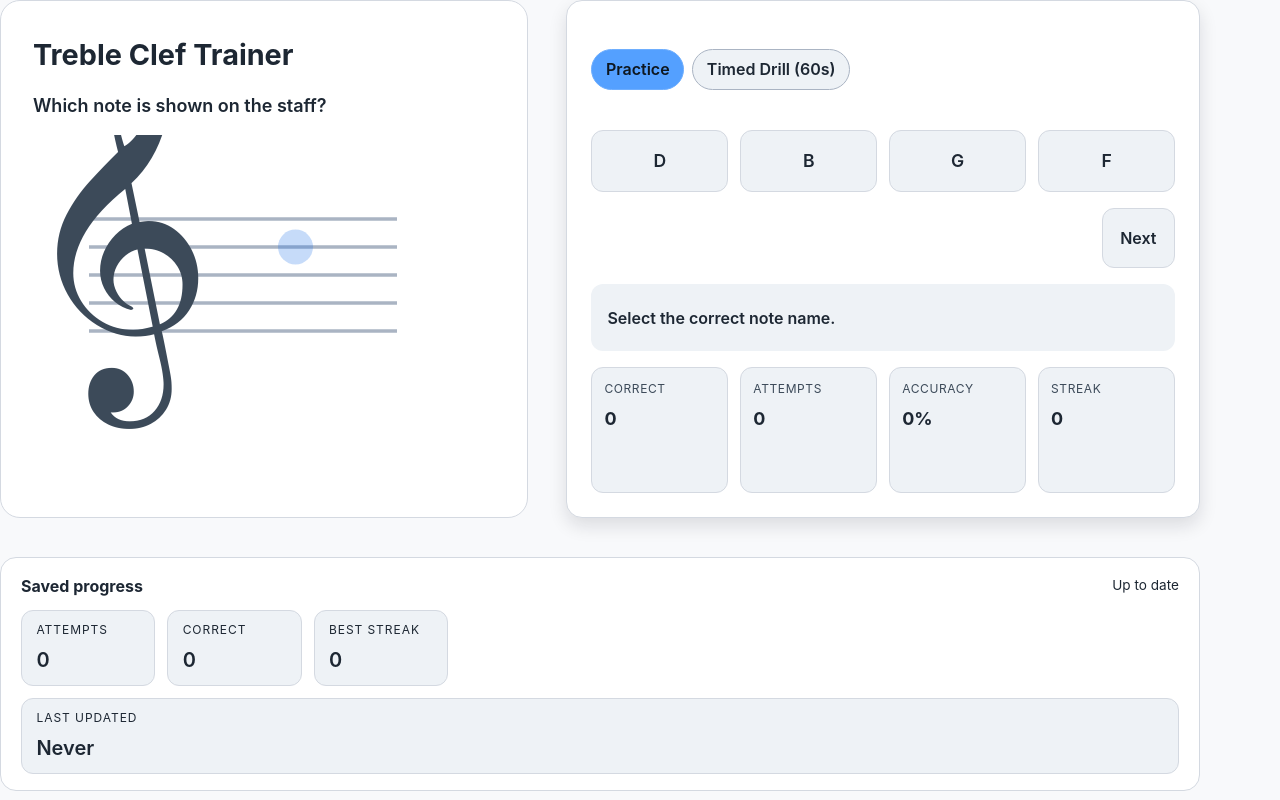
TrebleTrainer › prompts retry after an incorrect choice
The width and height of the screenshot is (1280, 800).
Click the button "B" at (809, 161), box [740,130,877,192]
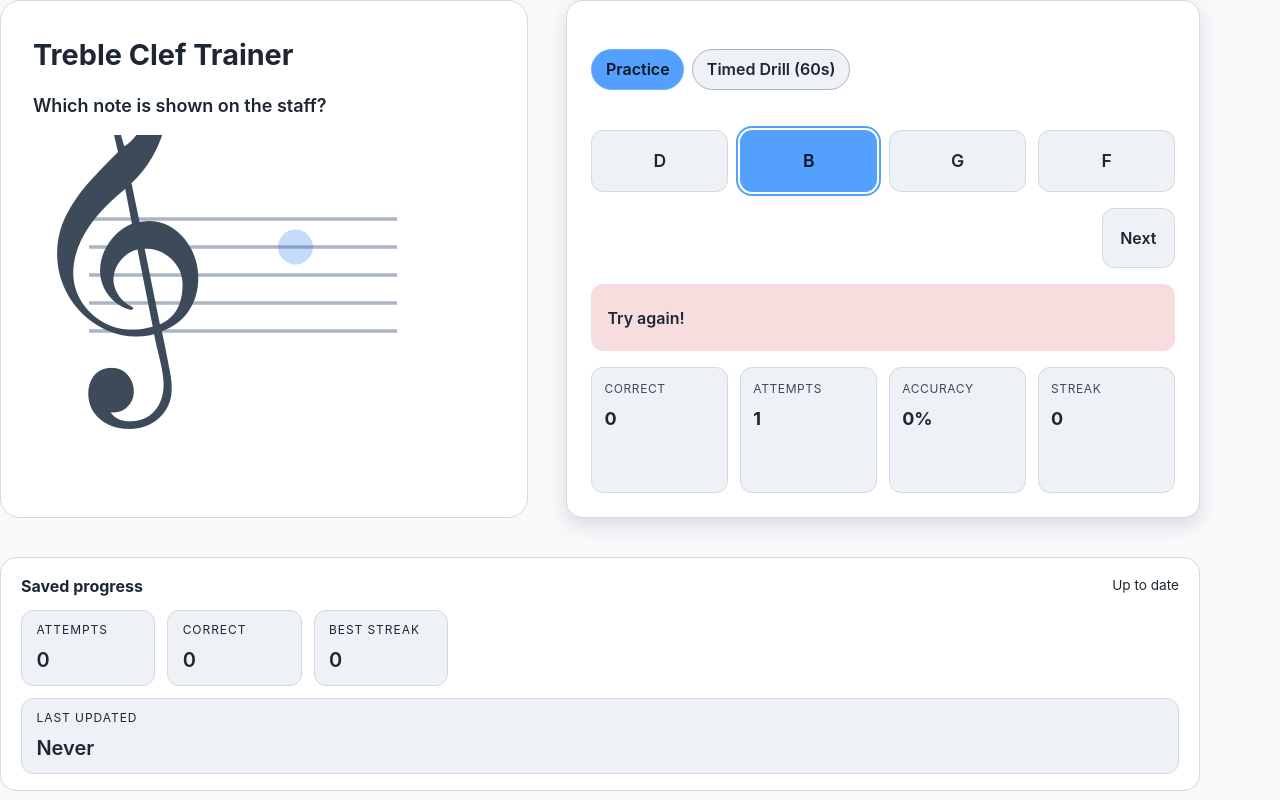
Check: the text "Try again!" is shown, box [591,284,1175,351]
